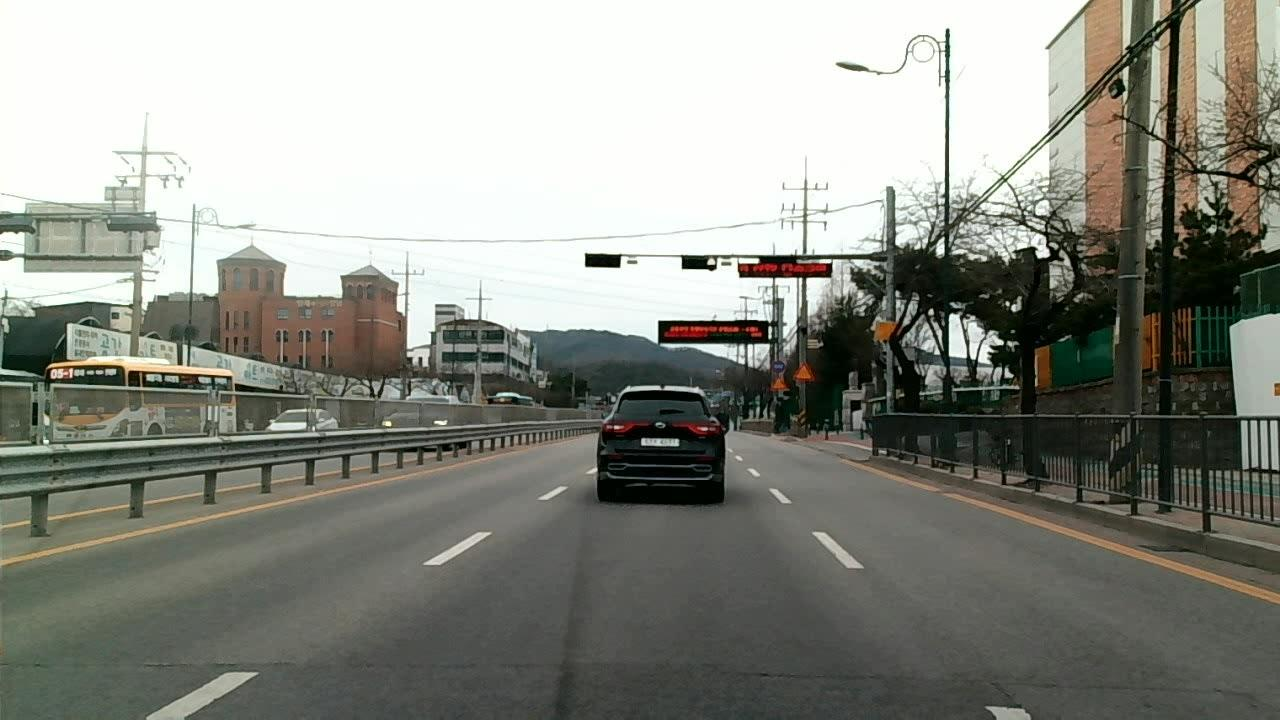hcrack: (111, 657, 540, 673), (993, 678, 1251, 692), (715, 666, 905, 680)
